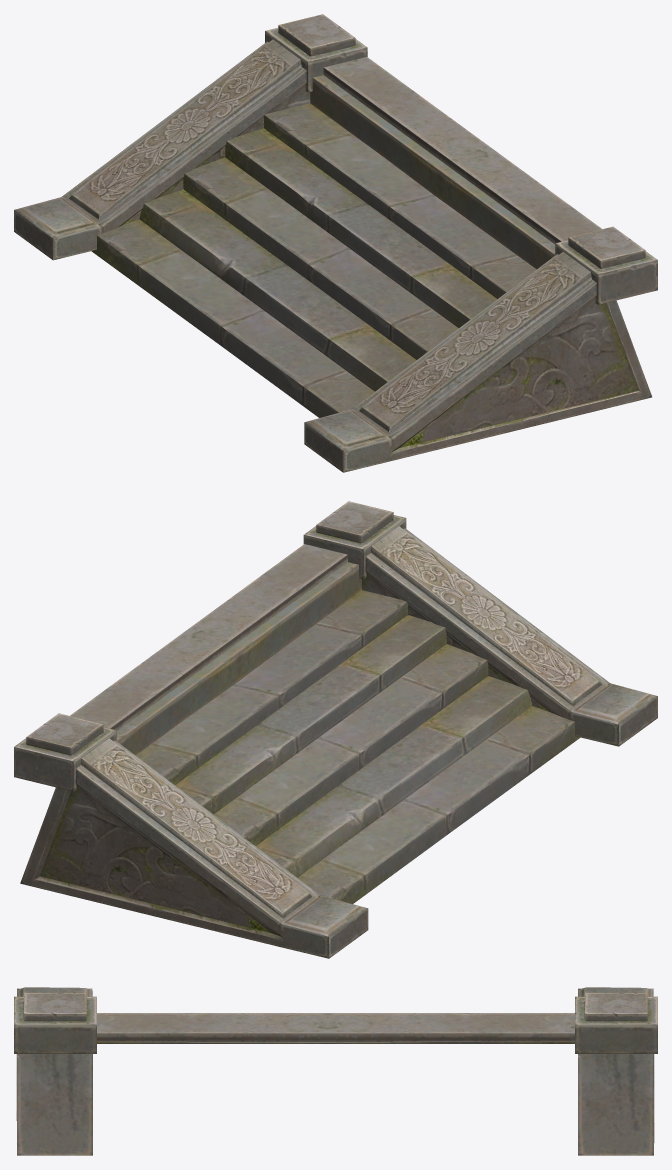
File: xinshoubujian28.FBX
3 renders of one model, top to bottom at view 1: azimuth 30°, elevation 25°; view 2: azimuth 150°, elevation 25°; view 3: azimuth 270°, elevation 25°, orthographic. The views are drawn at different scales.
Parts seen in each view (by area): view 1: 48; view 2: 48; view 3: 48.
Part boxes in pixels (bbox=[...]): 48: bbox=[14, 14, 657, 472]; 48: bbox=[14, 501, 657, 958]; 48: bbox=[14, 987, 657, 1155].
Bounding box in the file's own units: 0.7288 × 0.3357 × 1.34.
Materials: 1 (1 with a texture image).
